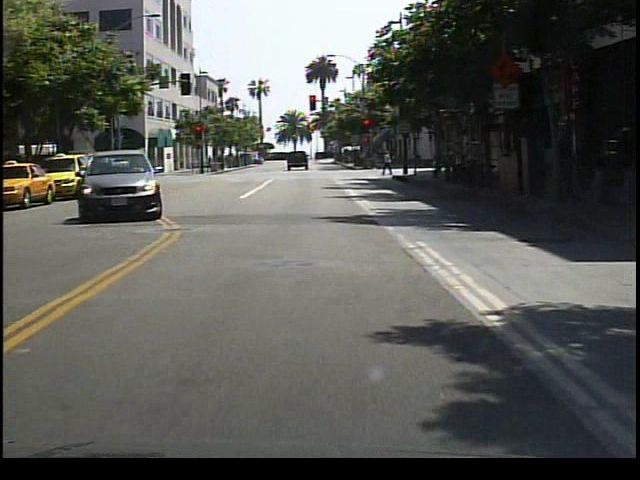person: (411, 144, 427, 174), (382, 149, 397, 176)
